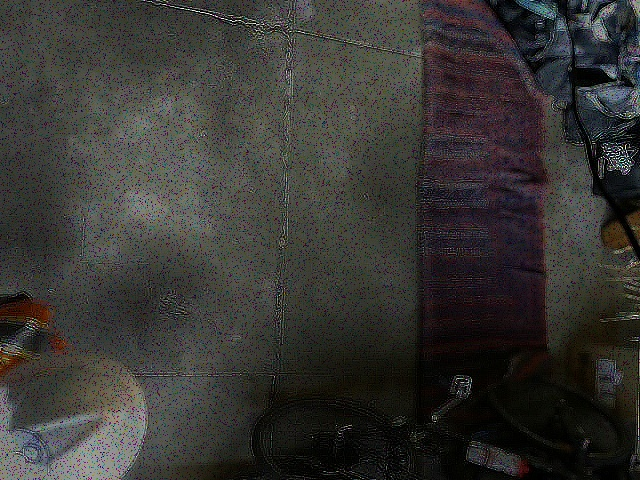eight: (1, 429, 55, 479)
